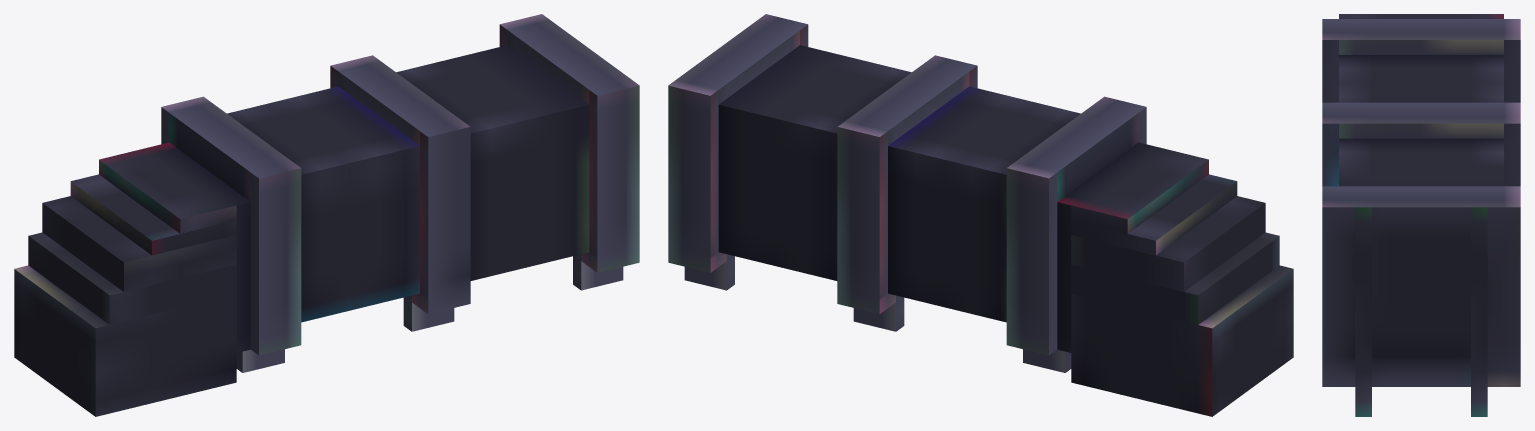
File: Vent_A_00.fbx
3 views of the same model, side by side, from view 1: azimuth 30°, elevation 25°; view 2: azimuth 150°, elevation 25°; view 3: azimuth 270°, elevation 25° (orthographic).
Parts seen in each view (by area): view 1: Vent_A_00; view 2: Vent_A_00; view 3: Vent_A_00.
Part boxes in pixels (bbox=[...]): Vent_A_00: bbox=[14, 14, 639, 416]; Vent_A_00: bbox=[668, 14, 1293, 416]; Vent_A_00: bbox=[1322, 14, 1520, 416].
Bounding box in the file's own units: 190 × 70 × 60.
